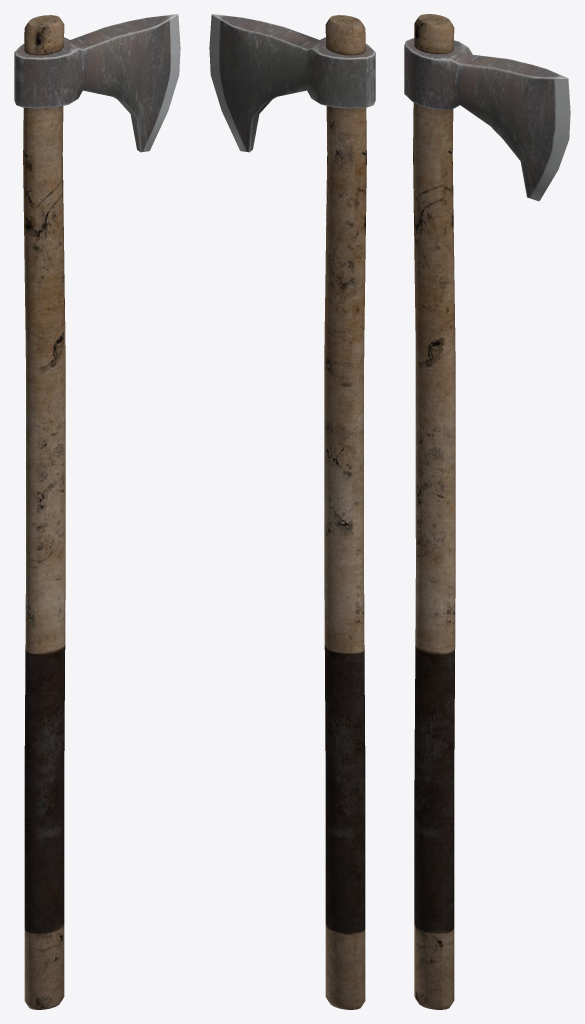
The model's file is machado.glb.
3 renders of one model, left to right at view 1: azimuth 30°, elevation 25°; view 2: azimuth 150°, elevation 25°; view 3: azimuth 330°, elevation 25°, orthographic.
Visible parts, largest first — view 1: machado; view 2: machado; view 3: machado.
Boxes of the visible parts, x1,y1,x2,y2 form: machado: (14, 14, 180, 1009); machado: (209, 14, 375, 1009); machado: (404, 14, 570, 1009).
Bounding box in the file's own units: 0.1397 × 0.8 × 0.0368.
1 material, 1 textured.
